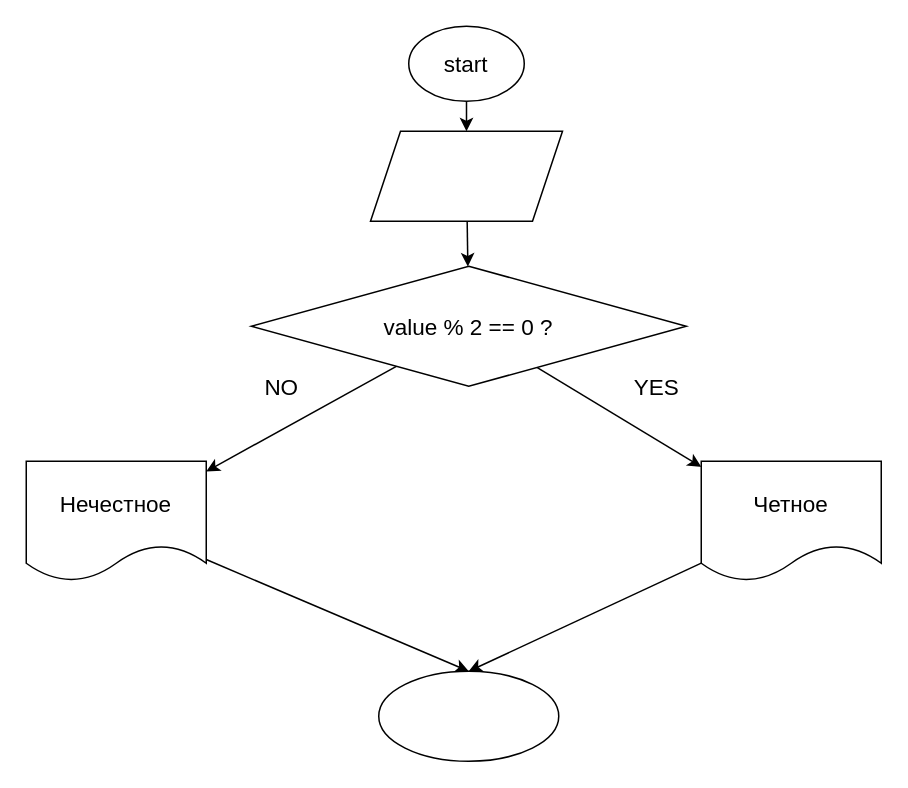
Some shapes in this 908 by 788 pixel diagram are drawn without their labels. Here are the shapes that lost their labels. From the top down, the centre of each, then its label:
At point 465,175: "value".
At point 468,715: "end".
